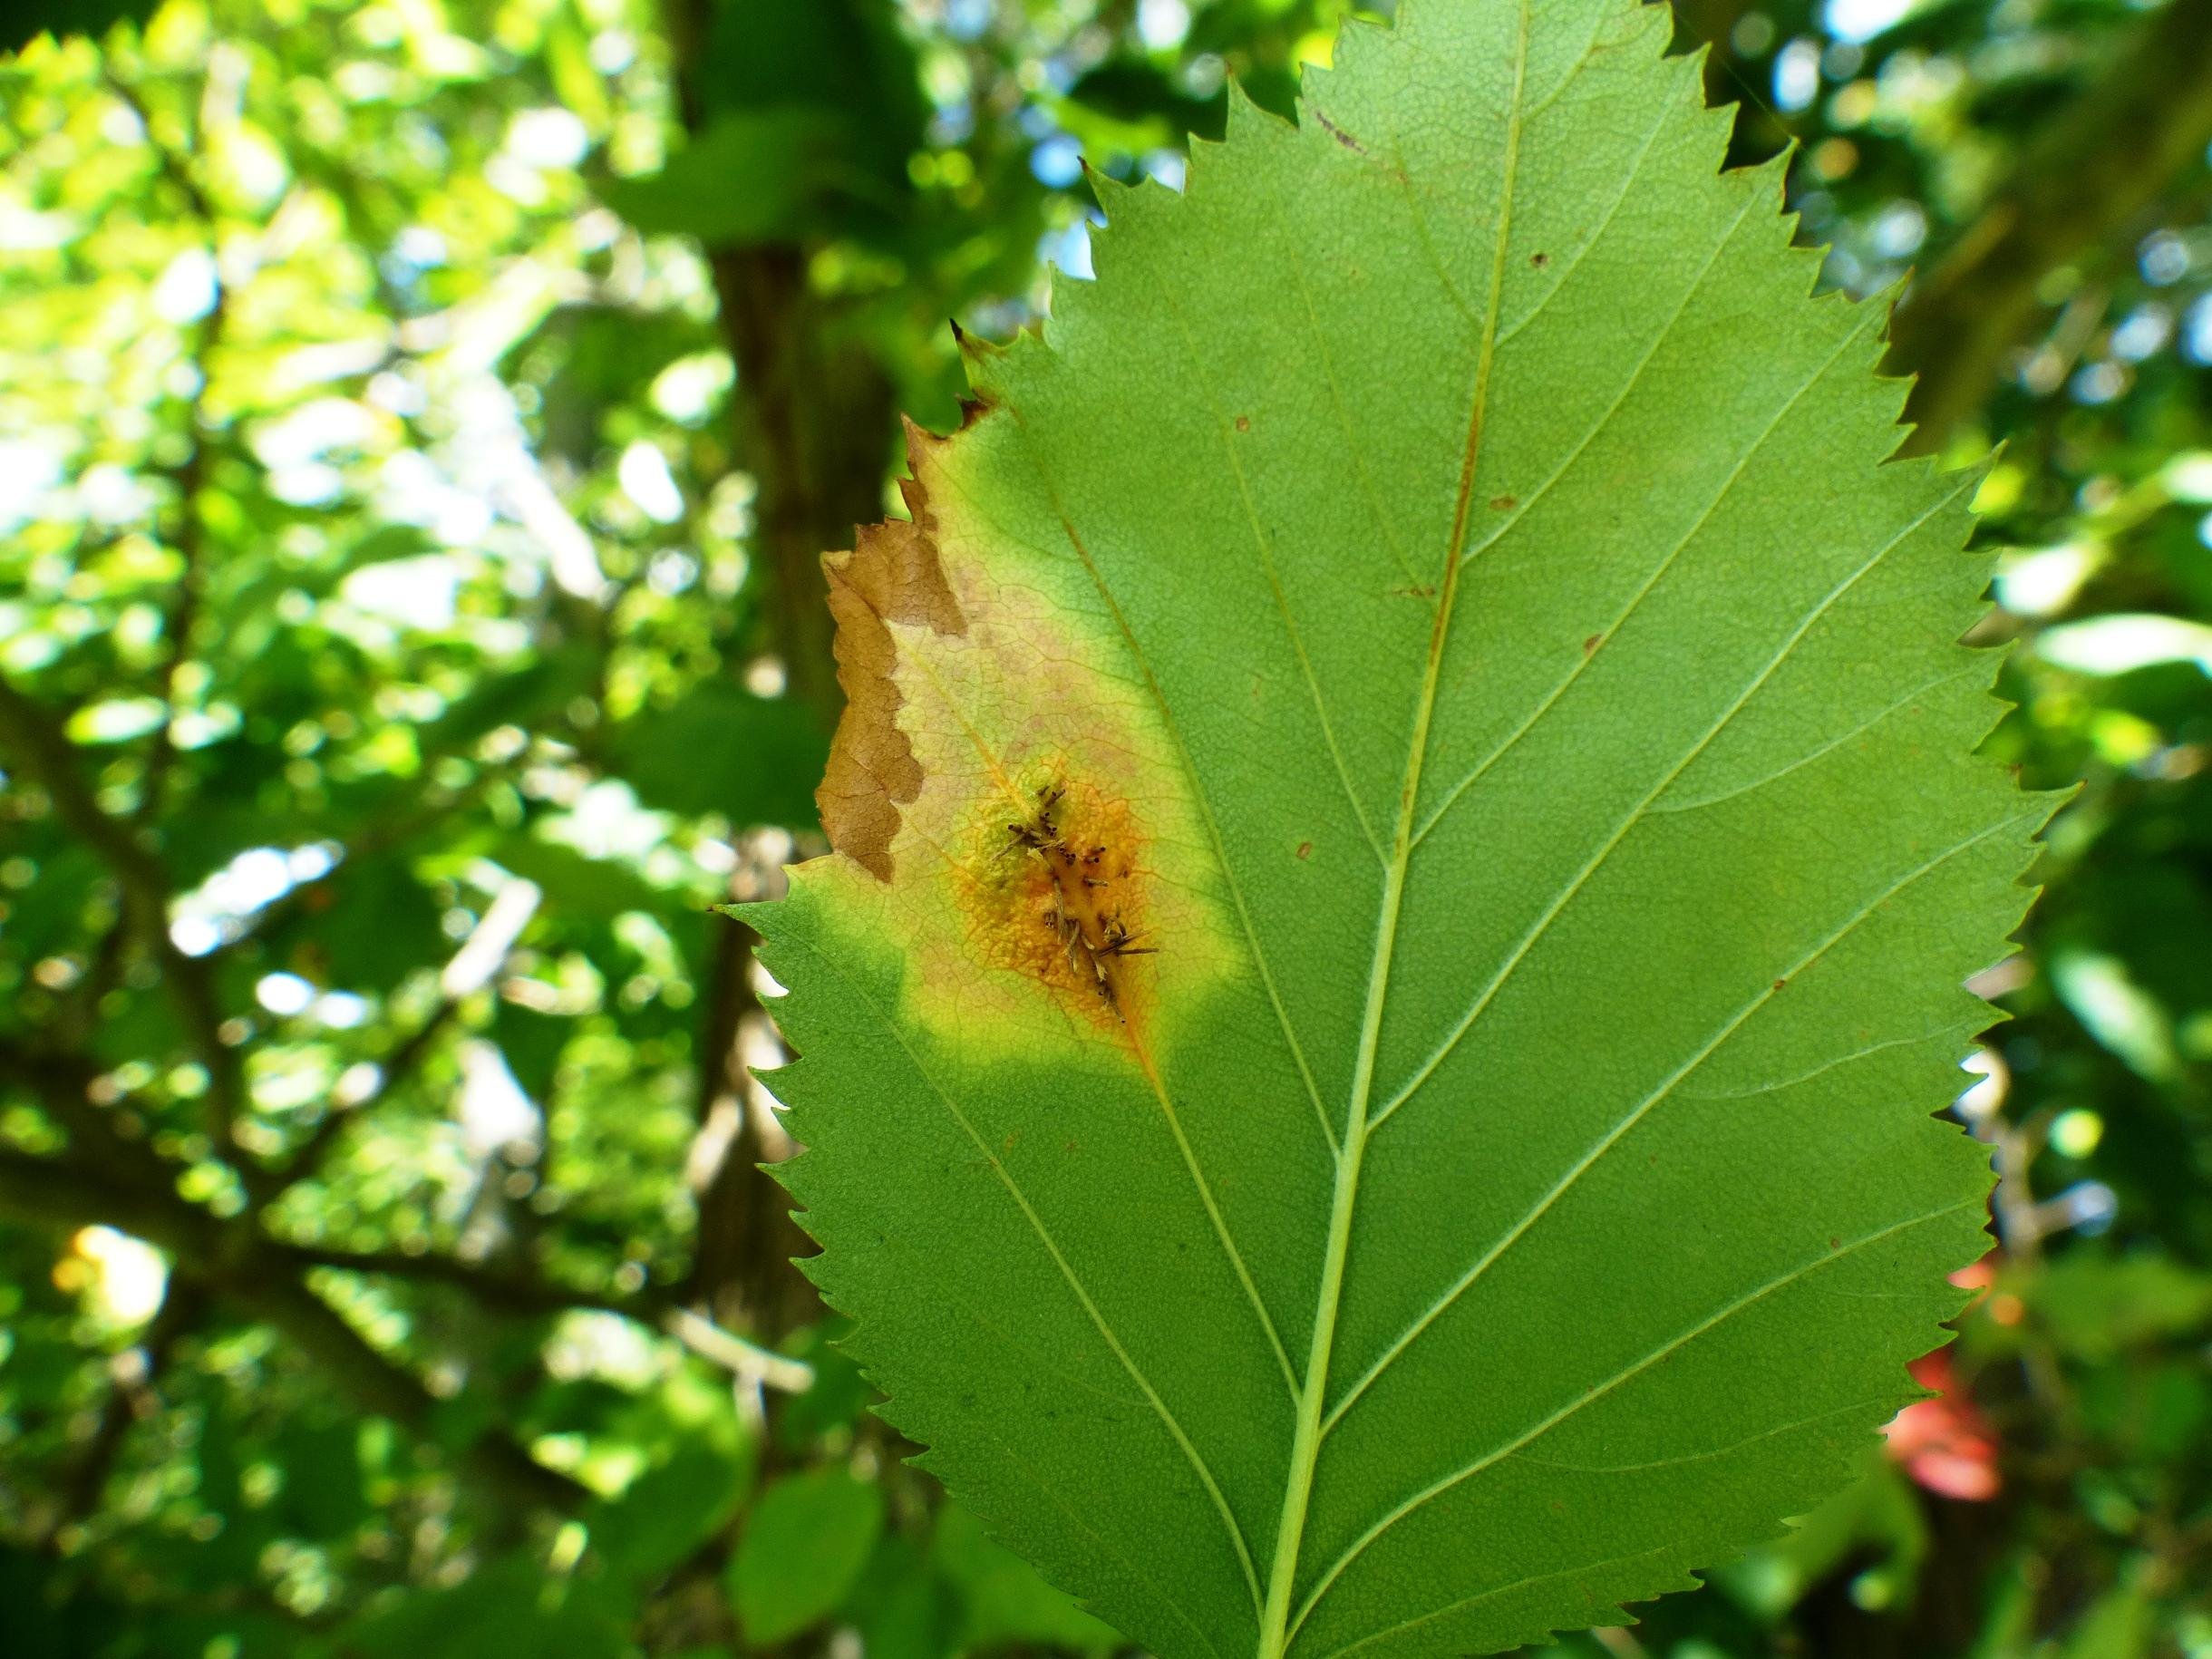Apple rust leaf: (826, 40, 2069, 1659)
